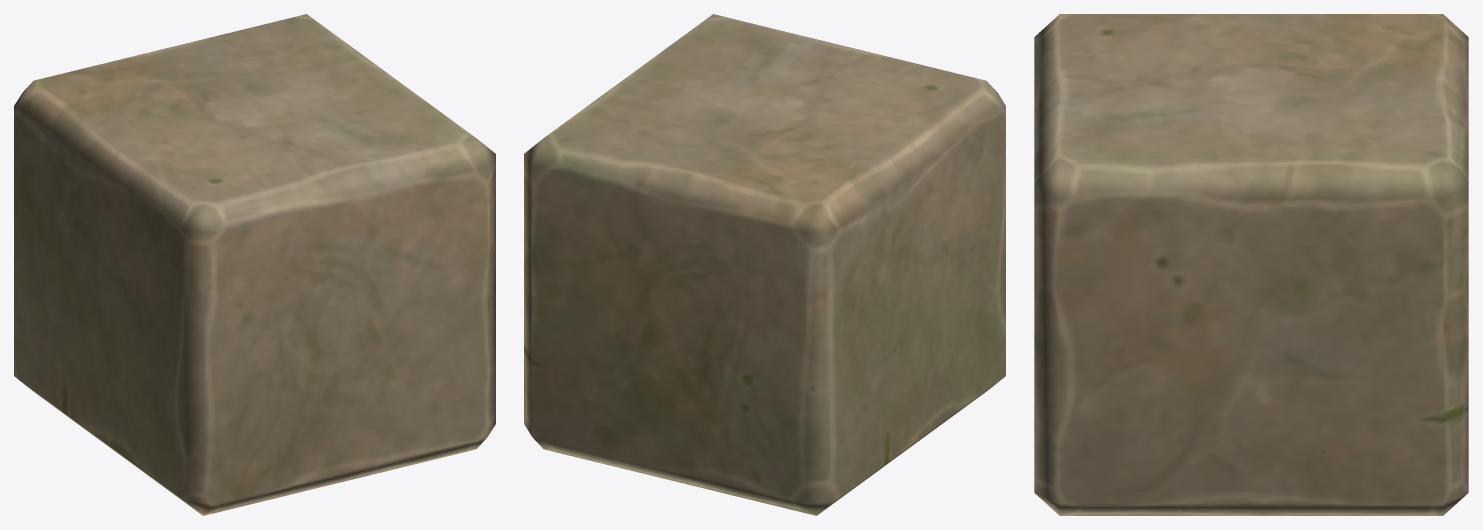
Rendered from SM_Brick_Kit_6.fbx.
3 views of the same model, side by side, from view 1: azimuth 30°, elevation 25°; view 2: azimuth 150°, elevation 25°; view 3: azimuth 270°, elevation 25° (orthographic). The views are drawn at different scales.
Parts seen in each view (by area): view 1: SM_Brick_Kit_6_LOD0; view 2: SM_Brick_Kit_6_LOD0; view 3: SM_Brick_Kit_6_LOD0.
Part boxes in pixels (bbox=[...]): SM_Brick_Kit_6_LOD0: bbox=[14, 14, 495, 515]; SM_Brick_Kit_6_LOD0: bbox=[524, 14, 1005, 515]; SM_Brick_Kit_6_LOD0: bbox=[1034, 14, 1468, 515].
Size of the model in its own units: 20 by 21.33 by 19.05.
Materials: 1 (1 with a texture image).
